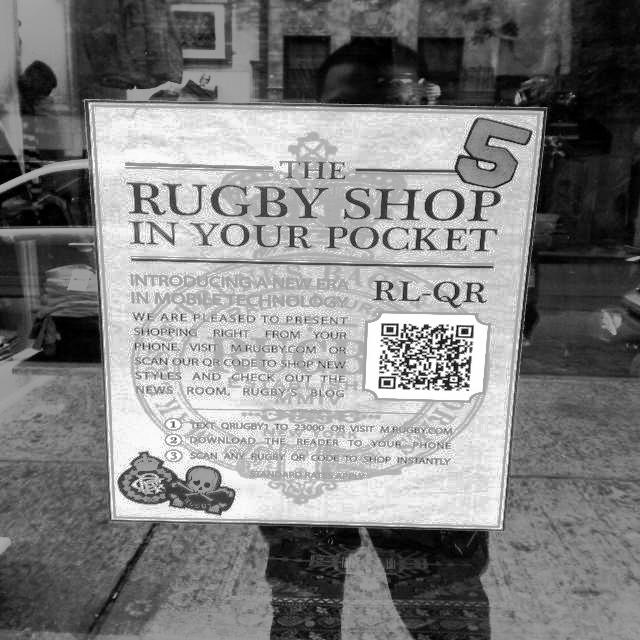qr_code: (379, 324, 474, 391)
